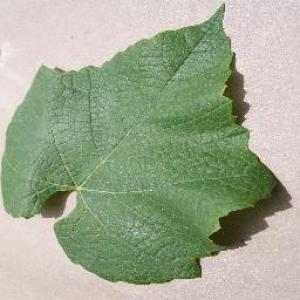Folha: (0, 1, 281, 285)
